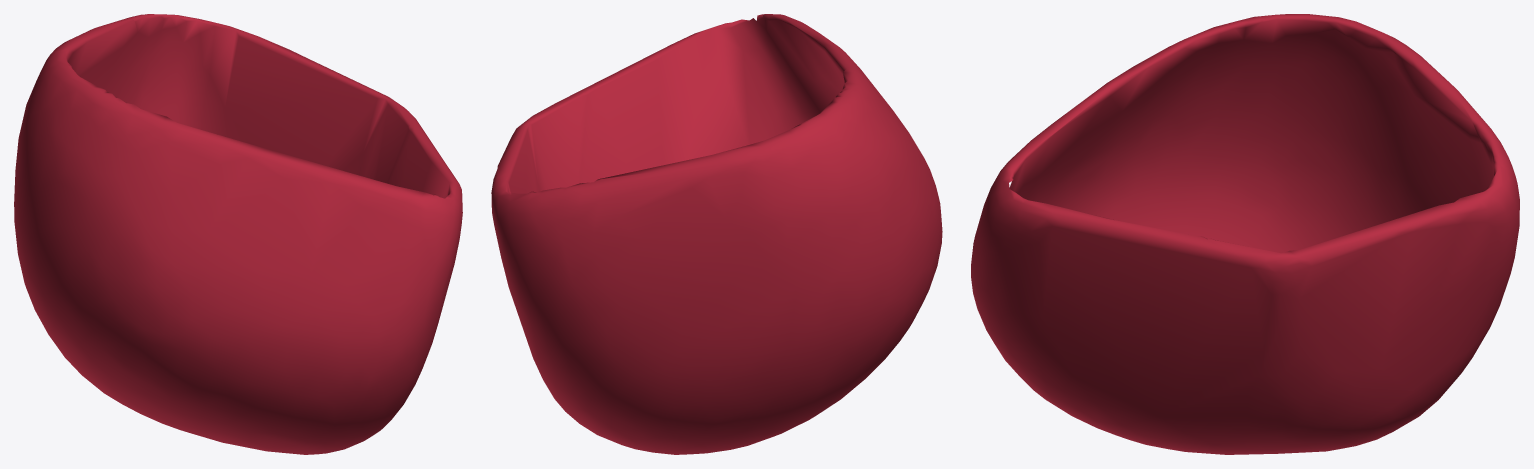
The model's file is right-semilunar-leaflet-of-pulmonary-valve.glb.
The picture shows the model from 3 angles, left to right: view 1: azimuth 30°, elevation 25°; view 2: azimuth 150°, elevation 25°; view 3: azimuth 270°, elevation 25°; orthographic projection.
Parts seen in each view (by area): view 1: Right semilunar leaflet of pulmonary valve; view 2: Right semilunar leaflet of pulmonary valve; view 3: Right semilunar leaflet of pulmonary valve.
Part boxes in pixels (bbox=[...]): Right semilunar leaflet of pulmonary valve: bbox=[14, 14, 462, 454]; Right semilunar leaflet of pulmonary valve: bbox=[491, 14, 942, 454]; Right semilunar leaflet of pulmonary valve: bbox=[971, 14, 1519, 454].
Bounding box in the file's own units: 0.0195 × 0.0178 × 0.0249.
